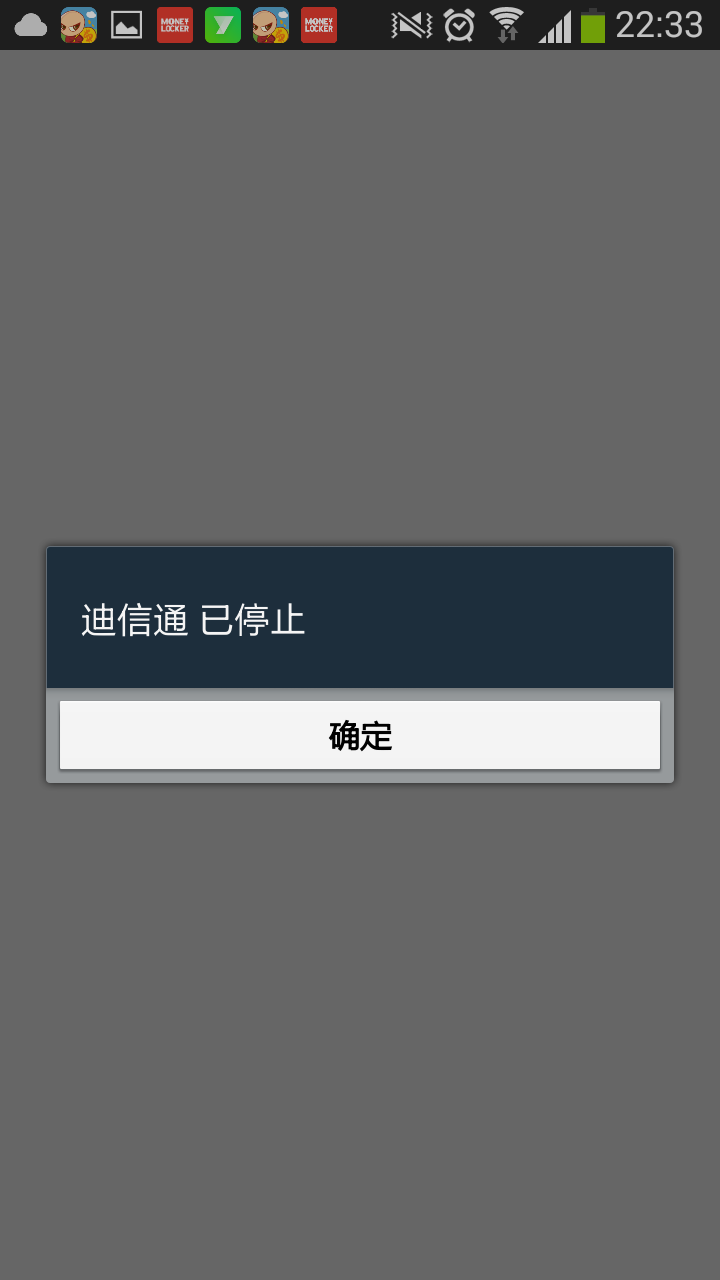alert: (28, 534, 692, 798)
